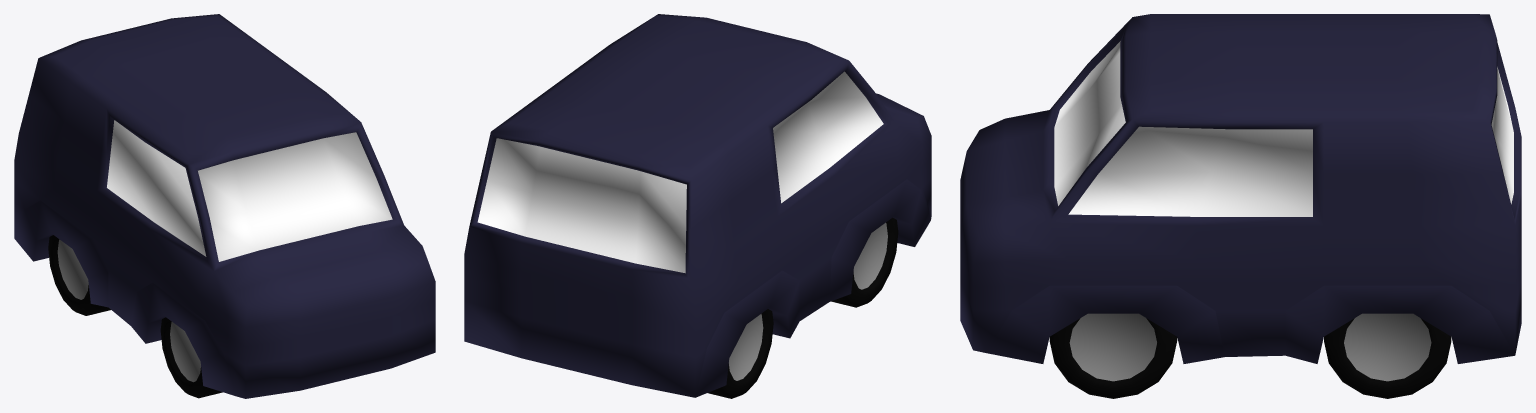
Rendered from car.glb.
The picture shows the model from 3 angles, left to right: view 1: azimuth 30°, elevation 25°; view 2: azimuth 150°, elevation 25°; view 3: azimuth 270°, elevation 25°; orthographic projection. The views are drawn at different scales.
Parts seen in each view (by area): view 1: CAR, Cylinder, Cylinder.001; view 2: CAR, Cylinder.001, Cylinder; view 3: CAR, Cylinder.002, Cylinder.003.
Boxes of the visible parts, x1=… form: CAR: x1=14, y1=14, x2=435, y2=398; Cylinder: x1=48, y1=235, x2=110, y2=315; Cylinder.001: x1=160, y1=317, x2=222, y2=398; CAR: x1=464, y1=14, x2=931, y2=397; Cylinder.001: x1=831, y1=217, x2=898, y2=307; Cylinder: x1=708, y1=309, x2=773, y2=398; CAR: x1=960, y1=14, x2=1521, y2=363; Cylinder.002: x1=1049, y1=313, x2=1177, y2=398; Cylinder.003: x1=1324, y1=313, x2=1451, y2=398.
Size of the model in its own units: 4.8 by 4.9 by 8.8.
